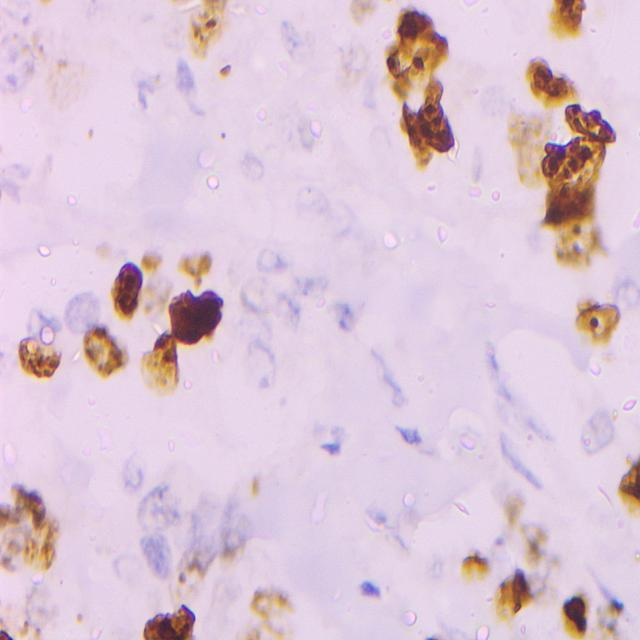Healthy cell: (0, 150, 66, 216), (293, 183, 359, 244), (273, 276, 333, 329), (130, 472, 179, 529), (172, 50, 206, 114), (280, 10, 315, 70), (272, 108, 318, 152), (134, 9, 184, 49), (247, 236, 289, 278), (118, 446, 150, 497), (139, 529, 172, 578), (72, 289, 109, 330), (20, 304, 56, 340), (234, 142, 264, 185), (240, 282, 268, 327), (335, 296, 363, 341)
cancer-cell-QiJm: (3, 0, 51, 109), (548, 206, 614, 274), (542, 135, 619, 191), (3, 577, 69, 640), (494, 556, 544, 635), (574, 296, 634, 361), (504, 102, 552, 183), (170, 284, 226, 348), (575, 404, 629, 466), (420, 79, 460, 159), (140, 329, 187, 397), (524, 52, 584, 105), (534, 176, 600, 223), (596, 574, 640, 640), (46, 59, 88, 126), (2, 495, 37, 575), (394, 95, 430, 172), (82, 324, 130, 380), (326, 30, 370, 90), (183, 0, 231, 54), (560, 102, 620, 145), (448, 538, 500, 586), (172, 549, 220, 600), (552, 587, 597, 640), (523, 516, 561, 578), (16, 333, 64, 381), (180, 488, 218, 546), (109, 259, 141, 325), (9, 478, 54, 524), (70, 583, 107, 638), (26, 508, 59, 568), (492, 470, 525, 527), (415, 30, 452, 79), (545, 0, 598, 34), (250, 583, 306, 615), (212, 528, 254, 570), (613, 446, 640, 510), (132, 64, 168, 108), (379, 36, 417, 74), (392, 3, 429, 42), (178, 247, 214, 285), (238, 616, 294, 640), (168, 604, 203, 640), (140, 273, 166, 317), (389, 69, 421, 99), (140, 607, 169, 640), (352, 0, 378, 33), (243, 469, 269, 502), (109, 555, 139, 583), (135, 242, 163, 266), (89, 238, 113, 264), (209, 60, 233, 82)
